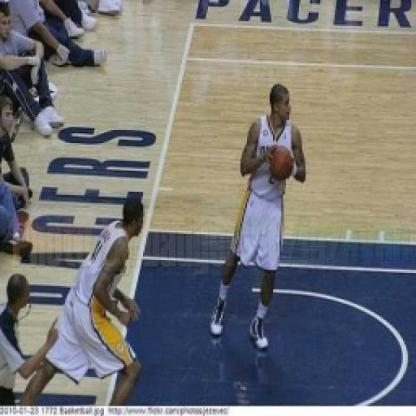basketball: (268, 142, 292, 185)
